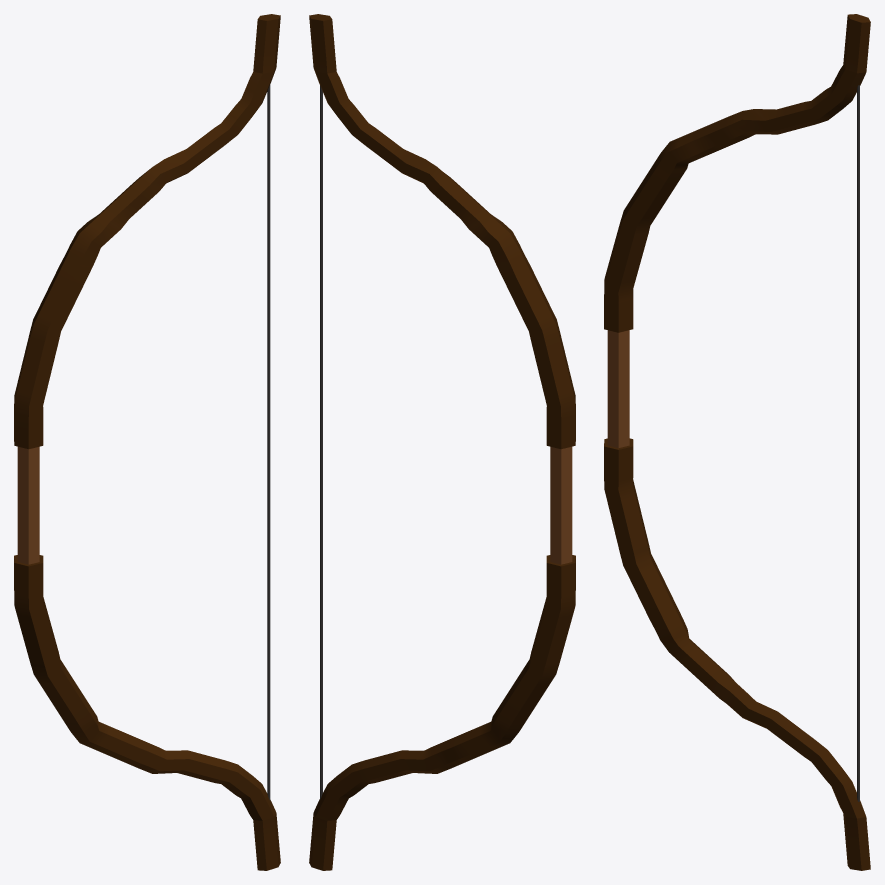
Rendered from bow+textures.fbx.
3 renders of one model, left to right at view 1: azimuth 30°, elevation 25°; view 2: azimuth 150°, elevation 25°; view 3: azimuth 330°, elevation 25°, orthographic.
Visible parts, largest first — view 1: pCylinder1, pCylinder2; view 2: pCylinder1, pCylinder2; view 3: pCylinder1, pCylinder2.
Part boxes in pixels (x1,y1,x2,y2): pCylinder1: [14, 14, 280, 870]; pCylinder2: [267, 84, 270, 800]; pCylinder1: [309, 14, 575, 870]; pCylinder2: [320, 85, 322, 799]; pCylinder1: [604, 14, 870, 870]; pCylinder2: [857, 85, 859, 801].
Bounding box in the file's own units: 604 × 1841 × 57.65.
